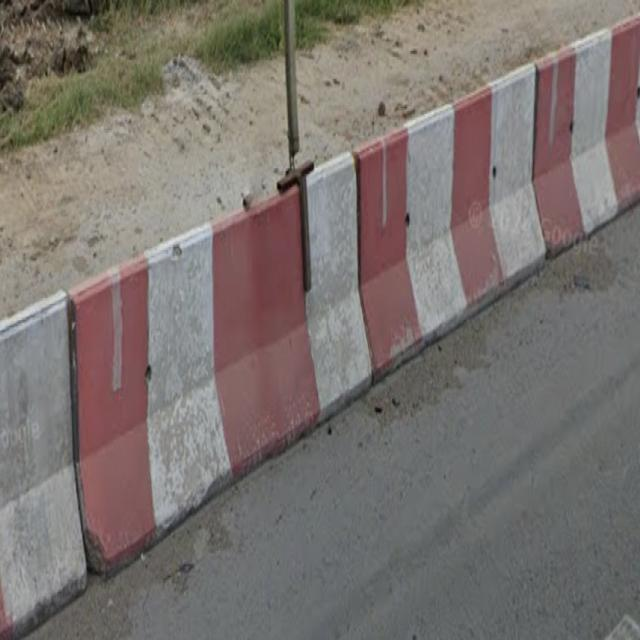fallen_object: (249, 63, 563, 420), (37, 187, 317, 579), (490, 0, 640, 253), (0, 273, 91, 638)
